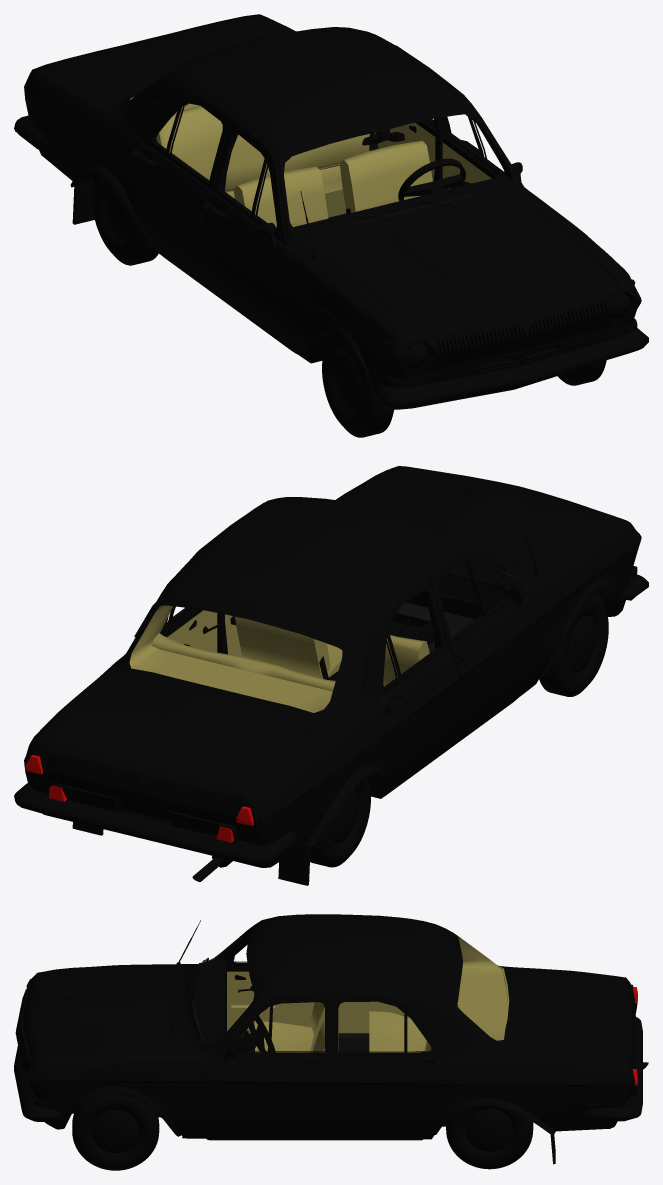
Rendered from car1.glb.
3 renders of one model, top to bottom at view 1: azimuth 30°, elevation 25°; view 2: azimuth 150°, elevation 25°; view 3: azimuth 270°, elevation 25°, orthographic. The views are drawn at different scales.
Parts seen in each view (by area): view 1: node_id89, node_id52, node_id93, node_id39, node_id165, node_id11, node_id145, node_id47, node_id105, node_id169, node_id97, node_id15 (+5 smaller); view 2: node_id89, node_id93, node_id97, node_id52, node_id165, node_id20, node_id145, node_id169, node_id24, node_id129, node_id105, node_id121 (+2 smaller); view 3: node_id89, node_id97, node_id165, node_id93, node_id52, node_id169, node_id145, node_id20, node_id11, node_id101, node_id39, node_id133 (+1 smaller).
Boxes of the visible parts, left/top/right/bottom form: node_id89: left=24, top=14, right=640, bottom=409; node_id52: left=156, top=106, right=432, bottom=227; node_id93: left=125, top=45, right=524, bottom=246; node_id39: left=399, top=287, right=641, bottom=386; node_id165: left=91, top=175, right=606, bottom=437; node_id11: left=375, top=328, right=648, bottom=406; node_id145: left=293, top=158, right=513, bottom=237; node_id47: left=435, top=301, right=607, bottom=367; node_id105: left=152, top=110, right=512, bottom=223; node_id169: left=104, top=185, right=362, bottom=413; node_id97: left=130, top=97, right=491, bottom=189; node_id15: left=397, top=341, right=645, bottom=406; node_id89: left=24, top=466, right=641, bottom=867; node_id93: left=25, top=503, right=524, bottom=838; node_id97: left=129, top=605, right=332, bottom=712; node_id52: left=151, top=616, right=429, bottom=691; node_id165: left=310, top=593, right=608, bottom=867; node_id20: left=14, top=783, right=297, bottom=863; node_id145: left=389, top=562, right=513, bottom=645; node_id169: left=330, top=615, right=595, bottom=843; node_id24: left=15, top=798, right=261, bottom=863; node_id129: left=72, top=822, right=310, bottom=885; node_id105: left=161, top=590, right=506, bottom=687; node_id121: left=25, top=755, right=253, bottom=842; node_id89: left=22, top=914, right=634, bottom=1139; node_id97: left=227, top=936, right=509, bottom=1040; node_id165: left=72, top=1094, right=533, bottom=1170; node_id93: left=190, top=925, right=636, bottom=1098; node_id52: left=255, top=998, right=458, bottom=1052; node_id169: left=92, top=1108, right=513, bottom=1153; node_id145: left=193, top=960, right=275, bottom=1052; node_id20: left=580, top=1017, right=641, bottom=1121; node_id11: left=14, top=1045, right=63, bottom=1122; node_id101: left=192, top=927, right=458, bottom=1052; node_id39: left=15, top=979, right=33, bottom=1100; node_id133: left=73, top=981, right=527, bottom=1140.
Bounding box in the file's own units: 0.512 × 0.4229 × 1.33.
Materials: 38 (38 with a texture image).
